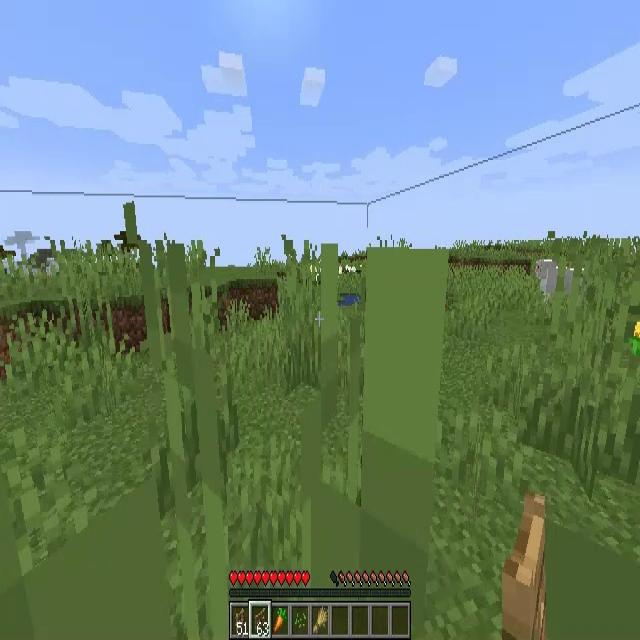sheep: (536, 260, 582, 302)
